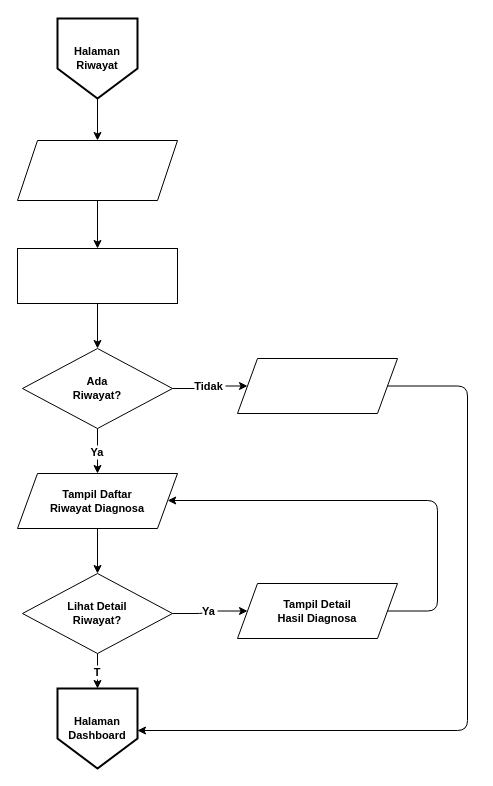
Some shapes in this 493 by 786 pixel diagram are drawn without their labels. Each missing label, with the centre of its shape:
"Data Riwayat Diagnosa" belongs at point 97,170.
"Sistem Muat Riwayat dari DB" belongs at point 97,276.
"Tampil Pesan: Belum Ada Riwayat" belongs at point 317,386.
